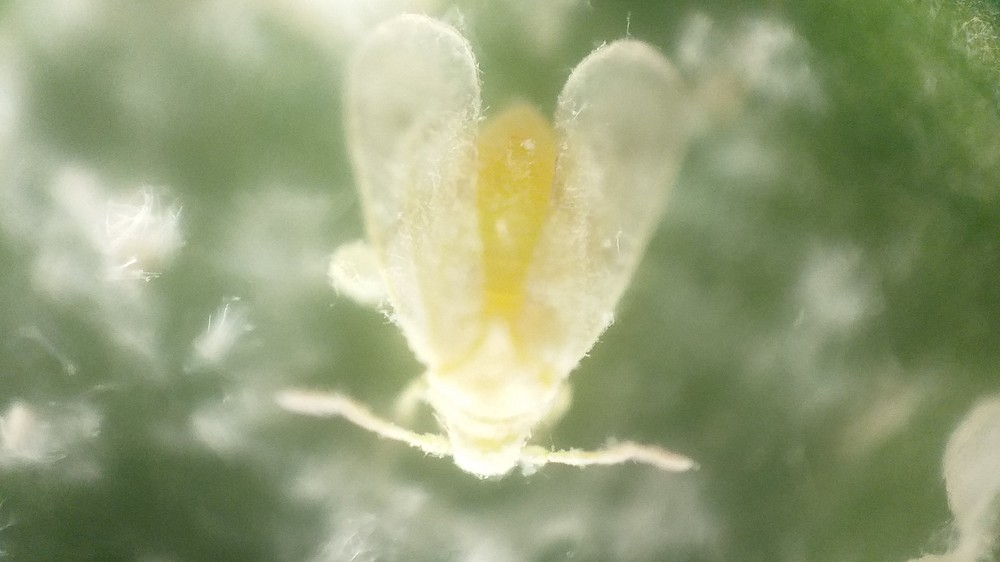Mosca Blanca: (274, 15, 734, 525)
